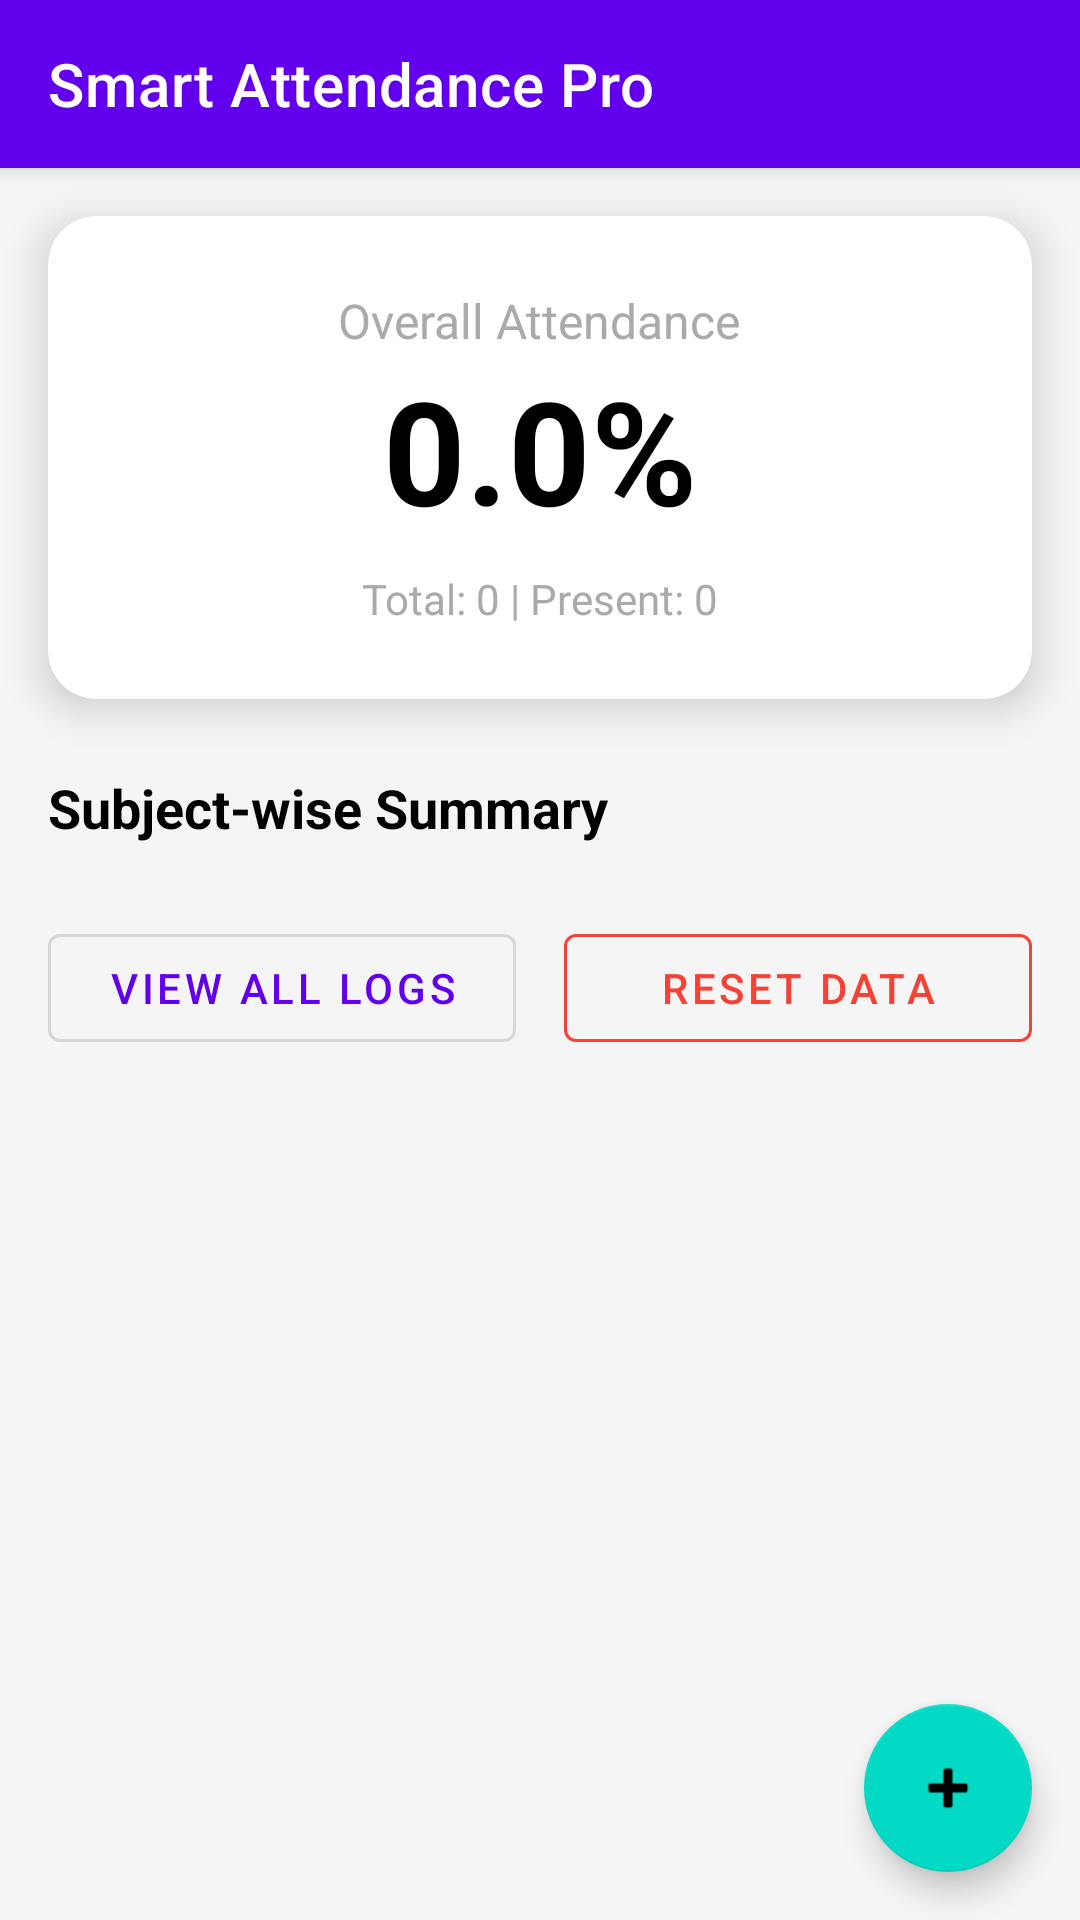

Where icons sit on this 1080x1920 app screen, as (x1,y1,x2,y2):
Add Attendance: (864,1704,1032,1872)
